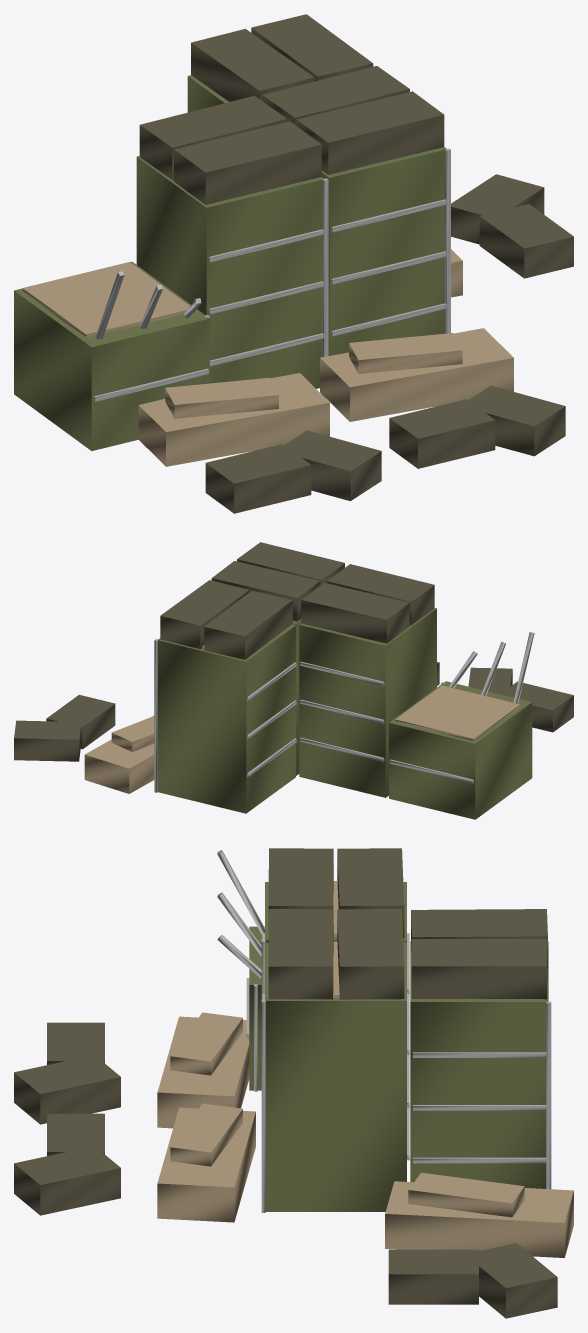
The model's file is SM_HescoRemateEspejo_v3_RemateSacos_e1_Danado_LOD0.fbx.
The picture shows the model from 3 angles, top to bottom: view 1: azimuth 30°, elevation 25°; view 2: azimuth 150°, elevation 25°; view 3: azimuth 270°, elevation 25°; orthographic projection. The views are drawn at different scales.
Visible parts, largest first — view 1: SM_hesco_piezas_v33_LOD0; view 2: SM_hesco_piezas_v33_LOD0; view 3: SM_hesco_piezas_v33_LOD0.
Part boxes in pixels (x1,y1,x2,y2): SM_hesco_piezas_v33_LOD0: (14, 14, 573, 513); SM_hesco_piezas_v33_LOD0: (14, 542, 573, 819); SM_hesco_piezas_v33_LOD0: (14, 848, 573, 1318).
Size of the model in its own units: 5.25 by 2.09 by 4.33.
